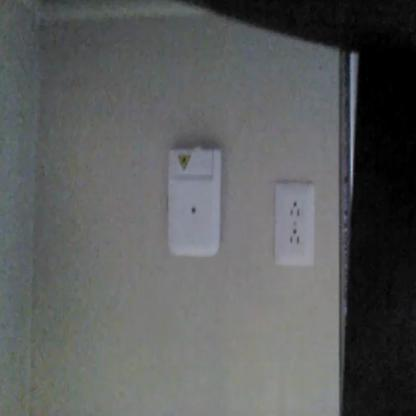OUTLET: (272, 185, 316, 267)
